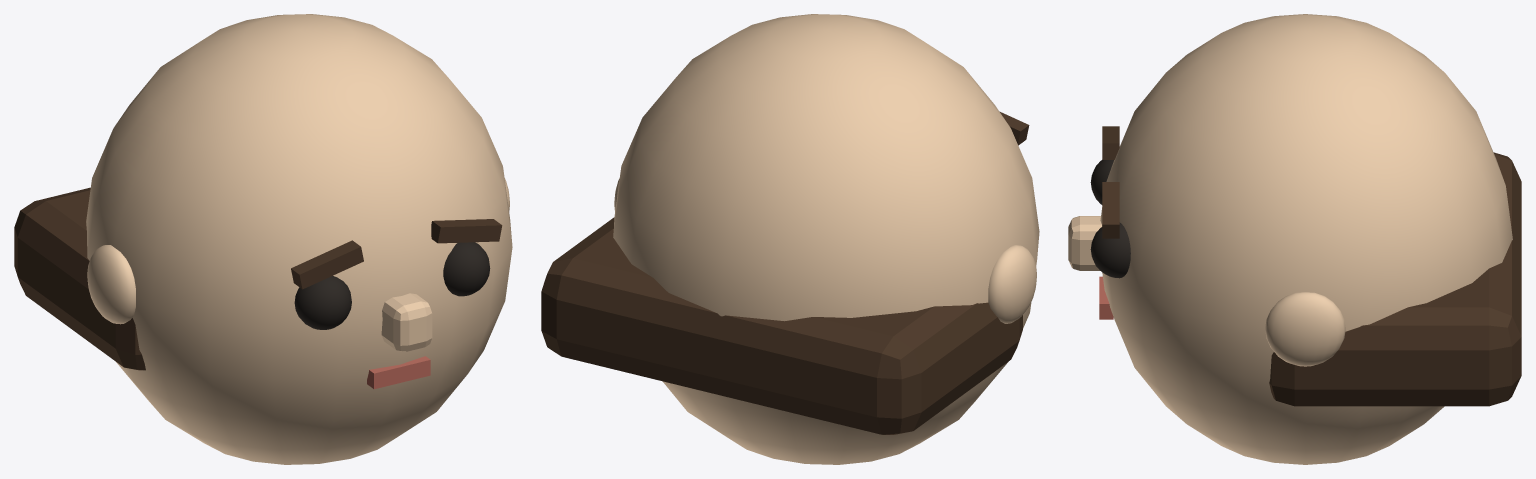
File: fig_head_bald.glb
The picture shows the model from 3 angles, left to right: view 1: azimuth 30°, elevation 25°; view 2: azimuth 150°, elevation 25°; view 3: azimuth 270°, elevation 25°; orthographic projection.
Parts seen in each view (by area): view 1: skin_head, hair_ring, skin_ear, skin_nose, eye, eye.001, brow, brow.001, mouth; view 2: skin_head, hair_ring, skin_ear; view 3: skin_head, hair_ring, skin_ear.001, eye.001, skin_nose, brow.001, brow, eye.
Boxes of the visible parts, left/top/right/bottom form: skin_head: left=86, top=14, right=512, bottom=464; hair_ring: left=14, top=187, right=145, bottom=370; skin_ear: left=87, top=245, right=135, bottom=324; skin_nose: left=381, top=293, right=432, bottom=351; eye: left=294, top=276, right=351, bottom=329; eye.001: left=443, top=242, right=490, bottom=296; brow: left=291, top=240, right=363, bottom=289; brow.001: left=431, top=219, right=502, bottom=243; mouth: left=367, top=356, right=430, bottom=389; skin_head: left=613, top=14, right=1039, bottom=464; hair_ring: left=541, top=217, right=1022, bottom=434; skin_ear: left=988, top=245, right=1036, bottom=323; skin_head: left=1100, top=14, right=1512, bottom=464; hair_ring: left=1269, top=152, right=1521, bottom=406; skin_ear.001: left=1265, top=292, right=1345, bottom=366; eye.001: left=1090, top=222, right=1130, bottom=278; skin_nose: left=1068, top=216, right=1101, bottom=270; brow.001: left=1102, top=182, right=1119, bottom=238; brow: left=1102, top=126, right=1119, bottom=159; eye: left=1090, top=160, right=1113, bottom=204.
Size of the model in its own units: 0.322 by 0.318 by 0.3145.
